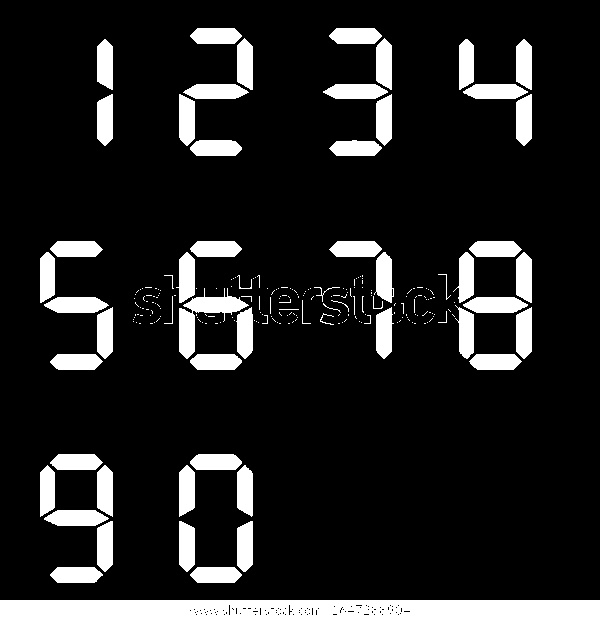eight: (459, 241, 533, 369)
five: (39, 241, 115, 372)
four: (457, 37, 535, 146)
nine: (40, 455, 115, 584)
one: (94, 36, 115, 145)
seven: (327, 241, 393, 362)
six: (179, 241, 254, 370)
three: (325, 27, 393, 155)
two: (176, 28, 257, 154)
zero: (179, 455, 256, 585)
